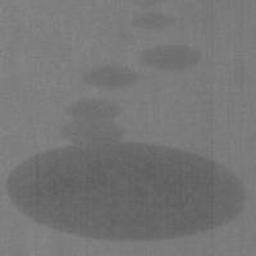Oil spot: (3, 42, 250, 243), (131, 0, 178, 31)
